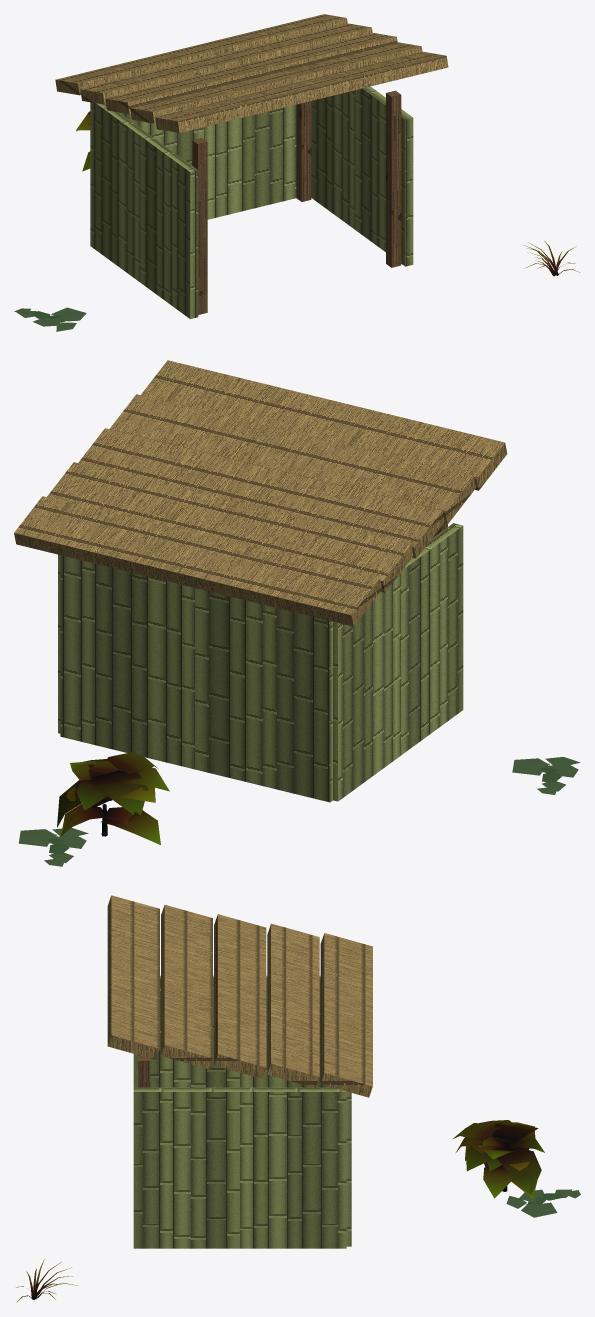
Rendered from lean_to_01.glb.
The picture shows the model from 3 angles, top to bottom: view 1: azimuth 30°, elevation 25°; view 2: azimuth 150°, elevation 25°; view 3: azimuth 270°, elevation 25°; orthographic projection. The views are drawn at different scales.
Parts seen in each view (by area): view 1: lean_to_01, lean_to_01_veg_01_moss_a, lean_to_01_veg_02_grass_tuft_a; view 2: lean_to_01, lean_to_01_veg_00_bush_a, lean_to_01_veg_03_moss_a, lean_to_01_veg_01_moss_a; view 3: lean_to_01, lean_to_01_veg_00_bush_a, lean_to_01_veg_03_moss_a.
Part boxes in pixels (box(x1,y1,x2,y2)): lean_to_01: box(55, 14, 448, 318); lean_to_01_veg_01_moss_a: box(14, 307, 86, 331); lean_to_01_veg_02_grass_tuft_a: box(523, 241, 580, 276); lean_to_01: box(14, 360, 507, 802); lean_to_01_veg_00_bush_a: box(57, 752, 169, 844); lean_to_01_veg_03_moss_a: box(18, 827, 88, 866); lean_to_01_veg_01_moss_a: box(512, 757, 580, 794); lean_to_01: box(107, 895, 372, 1248); lean_to_01_veg_00_bush_a: box(453, 1120, 544, 1198); lean_to_01_veg_03_moss_a: box(506, 1189, 580, 1217).
Size of the model in its own units: 5.91 by 2.51 by 5.73.
6 materials, 6 textured.
